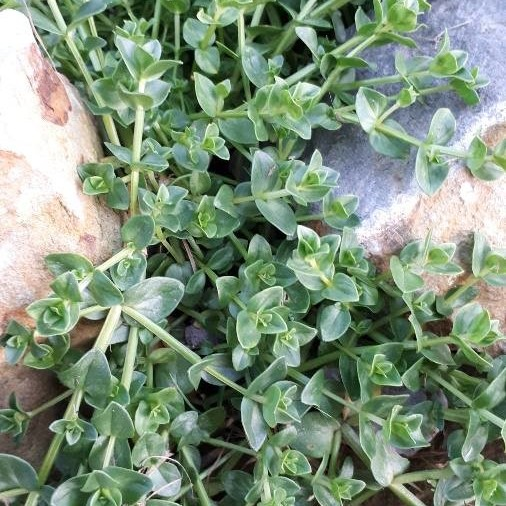obstacle: (69, 23, 448, 459)
